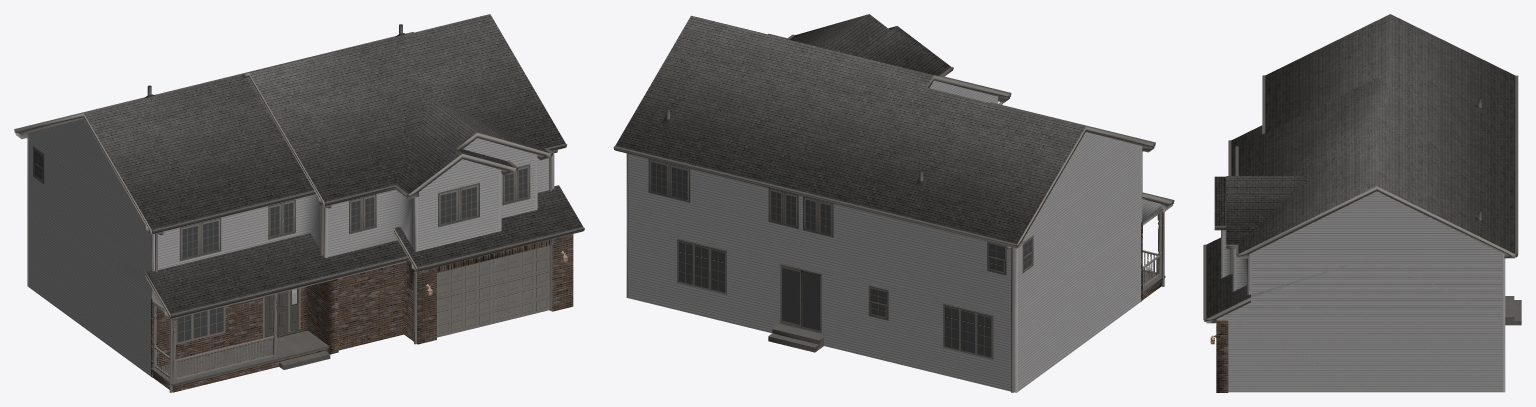
3 views of the same model, side by side, from view 1: azimuth 30°, elevation 25°; view 2: azimuth 150°, elevation 25°; view 3: azimuth 270°, elevation 25° (orthographic). The views are drawn at different scales.
Visible parts, largest first — view 1: polySurface739_phong5_0; view 2: polySurface739_phong5_0; view 3: polySurface739_phong5_0.
Boxes of the visible parts, x1,y1,x2,y2 form: polySurface739_phong5_0: [14, 14, 584, 392]; polySurface739_phong5_0: [613, 14, 1174, 392]; polySurface739_phong5_0: [1203, 14, 1521, 392].
Size of the model in its own units: 1543 by 840 by 1162.
Materials: 1 (1 with a texture image).
